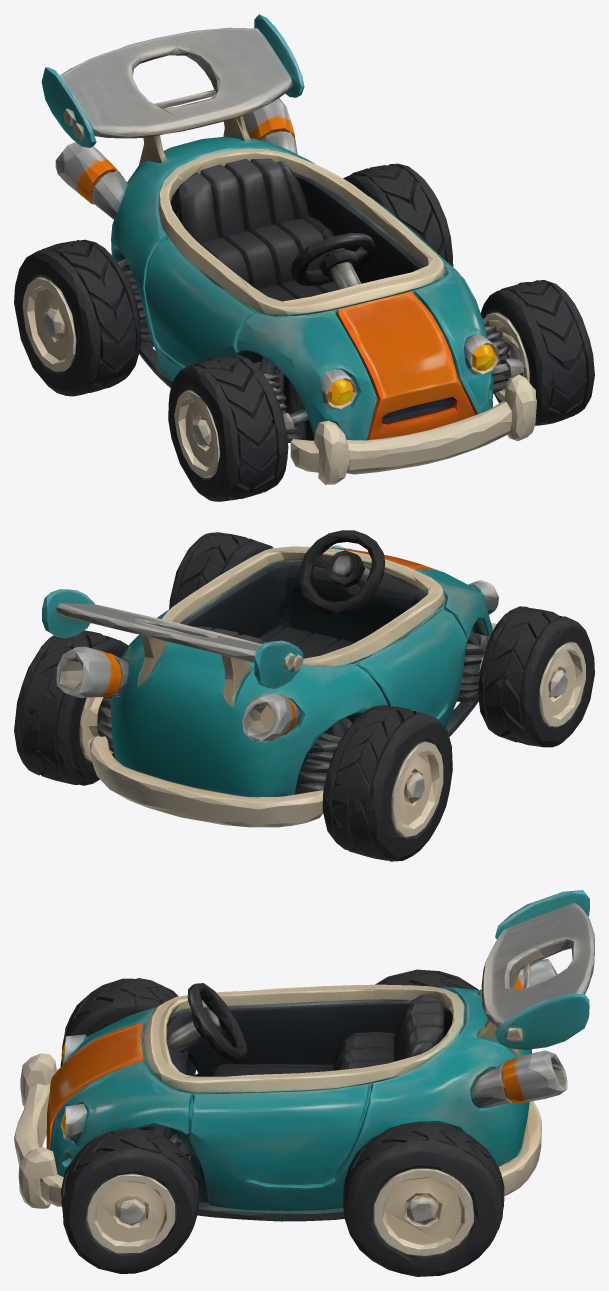
Rendered from tin-panda-kart-candidate.glb.
The picture shows the model from 3 angles, top to bottom: view 1: azimuth 30°, elevation 25°; view 2: azimuth 150°, elevation 25°; view 3: azimuth 270°, elevation 25°; orthographic projection.
Parts seen in each view (by area): view 1: tin-panda_kart_candidate; view 2: tin-panda_kart_candidate; view 3: tin-panda_kart_candidate.
Boxes of the visible parts, bbox=[...] form: tin-panda_kart_candidate: bbox=[14, 14, 594, 501]; tin-panda_kart_candidate: bbox=[14, 530, 594, 861]; tin-panda_kart_candidate: bbox=[14, 890, 594, 1276].
Bounding box in the file's own units: 2.88 × 1.85 × 3.9.
1 material, 1 textured.
